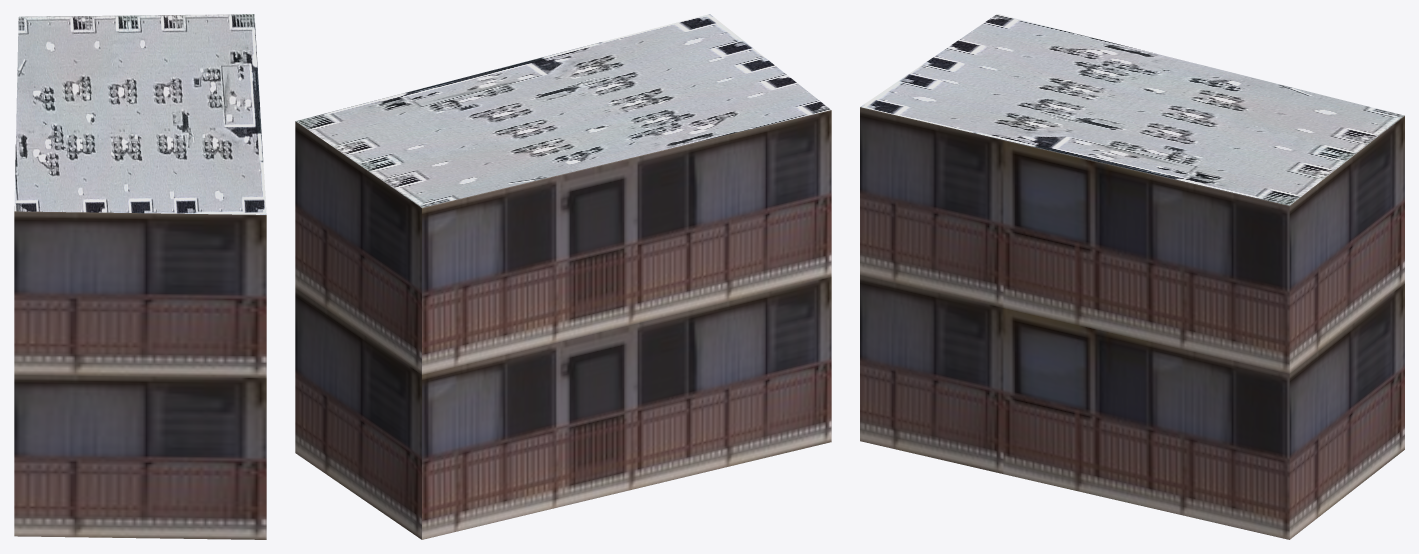
File: ResTex__1158.fbx
The picture shows the model from 3 angles, left to right: view 1: azimuth 30°, elevation 25°; view 2: azimuth 150°, elevation 25°; view 3: azimuth 270°, elevation 25°; orthographic projection. The views are drawn at different scales.
Parts seen in each view (by area): view 1: CityEngineMaterial_6_m, CityEngineMaterial_8_m; view 2: CityEngineMaterial_6_m, CityEngineMaterial_8_m; view 3: CityEngineMaterial_6_m, CityEngineMaterial_8_m.
Part boxes in pixels (left/top/right/bottom): CityEngineMaterial_6_m: left=14, top=211, right=266, bottom=539; CityEngineMaterial_8_m: left=14, top=14, right=266, bottom=214; CityEngineMaterial_6_m: left=295, top=110, right=831, bottom=539; CityEngineMaterial_8_m: left=295, top=14, right=830, bottom=207; CityEngineMaterial_6_m: left=860, top=107, right=1404, bottom=539; CityEngineMaterial_8_m: left=860, top=14, right=1404, bottom=205.
Bounding box in the file's own units: 7.39 × 6 × 8.87.
2 materials, 2 textured.
